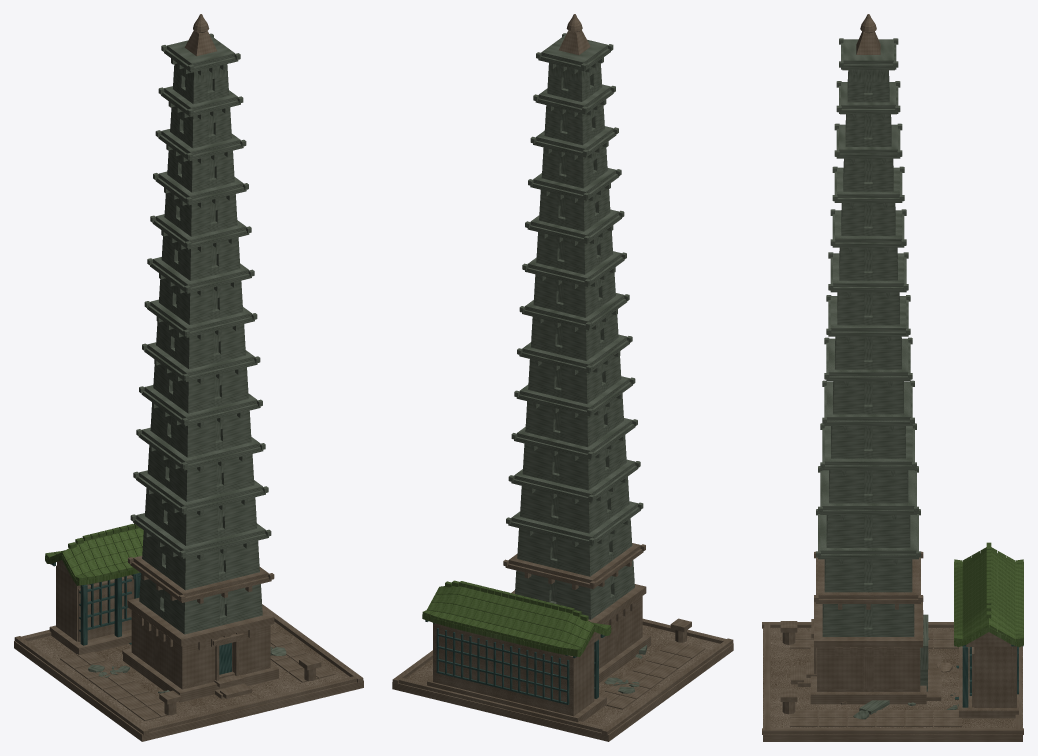
The picture shows the model from 3 angles, left to right: view 1: azimuth 30°, elevation 25°; view 2: azimuth 150°, elevation 25°; view 3: azimuth 270°, elevation 25°; orthographic projection. The views are drawn at different scales.
Visible parts, largest first — view 1: garrison_part_0001, garrison_part_0000; view 2: garrison_part_0001, garrison_part_0000; view 3: garrison_part_0001, garrison_part_0000, garrison_part_0002.
Boxes of the visible parts, <box> form: garrison_part_0001: <box>45,14,334,720</box>; garrison_part_0000: <box>14,598,363,741</box>; garrison_part_0001: <box>422,14,705,716</box>; garrison_part_0000: <box>392,584,733,741</box>; garrison_part_0001: <box>780,14,1023,726</box>; garrison_part_0000: <box>762,595,1023,741</box>; garrison_part_0002: <box>841,614,958,719</box>.
Bounding box in the file's own units: 685 × 1956 × 690.
